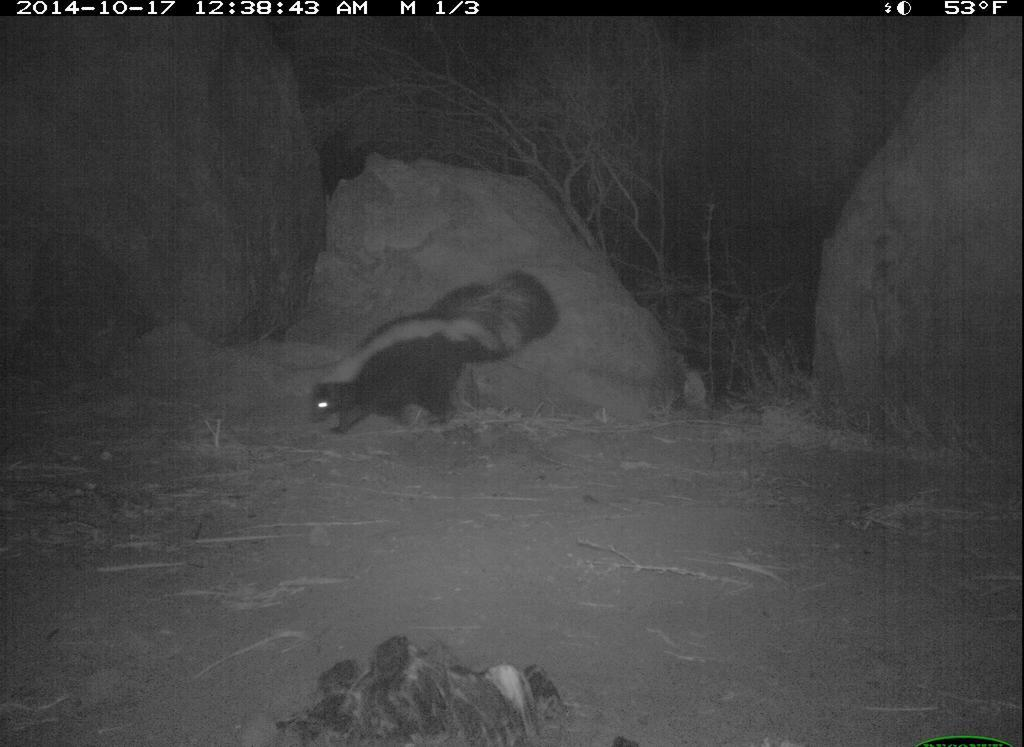skunk: (297, 264, 571, 447)
